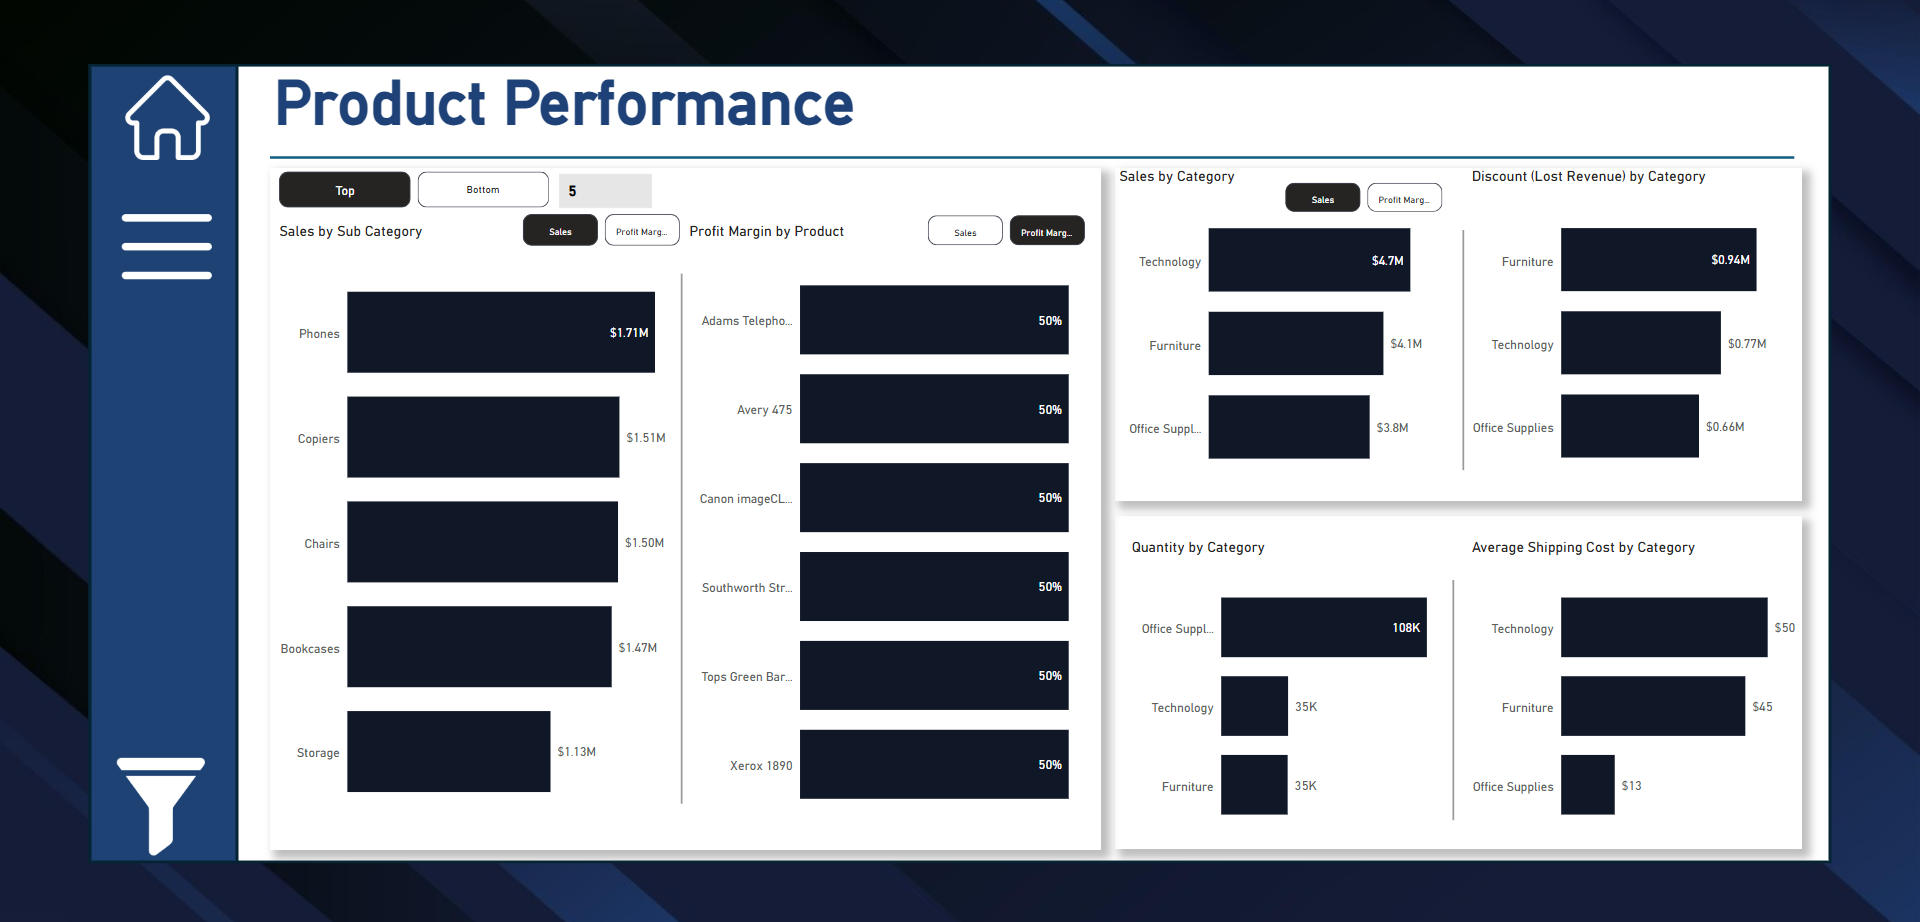

The page's visual inventory and layout, read from the dashboard file:
{"tool":"powerbi","page":{"name":"Product","canvas":[2250,1080],"ordinal":2},"visuals":[{"type":"shape","box":[1306.2,605.5,804.5,390.3],"z":0},{"type":"shape","box":[1306.2,196.2,804.5,390.3],"z":1000},{"type":"shape","box":[316.1,196.3,974.8,799.6],"z":2000},{"type":"clusteredBarChart","fields":{"Y":["_Measures.Product Rank by Profit Margin"],"Category":["product.Product"]},"box":[803.2,261.1,487.4,724.7],"z":3000},{"type":"barChart","fields":{"Y":["_Measures.Sub Category Rank by Sales"],"Category":["product.Sub Category"]},"box":[322.8,260.1,487.4,725.2],"z":4000},{"type":"clusteredBarChart","fields":{"Y":["_Measures.Sales"],"Category":["product.Product Hierarchy.Category","product.Product Hierarchy.Sub Category","product.Product Hierarchy.Product"]},"box":[1306.4,196.5,389.9,389.6],"z":5000},{"type":"advancedSlicerVisual","fields":{"Values":["Metrics.Metrics"]},"box":[1501.4,209.2,195,44.9],"z":6000},{"type":"barChart","fields":{"Category":["product.Product Hierarchy.Category","product.Product Hierarchy.Sub Category","product.Product Hierarchy.Product"],"Y":["_Measures.Discount (Lost Revenue)"]},"box":[1719.8,196.2,390.9,388.2],"z":7000},{"type":"clusteredBarChart","title":"Average Shipping Cost by Category","fields":{"Category":["product.Product Hierarchy.Category","product.Product Hierarchy.Sub Category","product.Product Hierarchy.Product"],"Y":["_Measures.Avg Shipping Cost"]},"box":[1719.8,630.8,390.9,369.2],"z":8000},{"type":"textbox","box":[316.1,73.2,751.8,101.8],"z":9000},{"type":"advancedSlicerVisual","fields":{"Values":["TopBottom.Value"]},"box":[322.7,196.4,326.8,52.9],"z":10000},{"type":"slicer","fields":{"Values":["Top N.Top N"]},"box":[649.8,193.1,118.8,76.1],"z":11000},{"type":"clusteredBarChart","fields":{"Category":["product.Product Hierarchy.Category","product.Product Hierarchy.Sub Category","product.Product Hierarchy.Product"],"Y":["_Measures.Quantity"]},"box":[1320.6,630.8,388.9,369.2],"z":12000},{"type":"advancedSlicerVisual","fields":{"Values":["Product Parameter.Product Parameter"]},"box":[1081.9,247,195,45.9],"z":13000},{"type":"advancedSlicerVisual","fields":{"Values":["Sub Category Parameter.Sub Category Parameter"]},"box":[608.3,245.8,195,47],"z":14000},{"type":"shape","box":[786.1,321.3,24.4,621.1],"z":15000},{"type":"shape","box":[1683.9,679,37.1,281.4],"z":16000},{"type":"shape","box":[1696.6,269.4,37.1,281.4],"z":17000},{"type":"image","box":[74.2,246.6,242.2,115.6],"z":18000},{"type":"image","box":[76.4,883.7,224.7,124.4],"z":19000},{"type":"image","box":[76.4,82.9,240,109.1],"z":20000}]}

Visuals, with their boxes in screenshot pixels (x1, y1, x2, y2), scaled from the page's 2250x1080 canvas onto the 1920x922 screenshot:
shape: (1115, 517, 1801, 850)
shape: (1115, 167, 1801, 501)
shape: (270, 168, 1102, 850)
clusteredBarChart - _Measures.Product Rank by Profit Margin x product.Product: (685, 223, 1101, 842)
barChart - _Measures.Sub Category Rank by Sales x product.Sub Category: (275, 222, 691, 841)
clusteredBarChart - _Measures.Sales x product.Product Hierarchy.Category: (1115, 168, 1448, 500)
advancedSlicerVisual - Metrics.Metrics: (1281, 179, 1448, 217)
barChart - product.Product Hierarchy.Category x product.Product Hierarchy.Sub Category: (1468, 167, 1801, 499)
"Average Shipping Cost by Category" clusteredBarChart: (1468, 539, 1801, 854)
textbox: (270, 62, 911, 149)
advancedSlicerVisual - TopBottom.Value: (275, 168, 554, 213)
slicer - Top N.Top N: (554, 165, 656, 230)
clusteredBarChart - product.Product Hierarchy.Category x product.Product Hierarchy.Sub Category: (1127, 539, 1459, 854)
advancedSlicerVisual - Product Parameter.Product Parameter: (923, 211, 1090, 250)
advancedSlicerVisual - Sub Category Parameter.Sub Category Parameter: (519, 210, 685, 250)
shape: (671, 274, 692, 805)
shape: (1437, 580, 1469, 820)
shape: (1448, 230, 1479, 470)
image: (63, 211, 270, 309)
image: (65, 754, 257, 861)
image: (65, 71, 270, 164)
